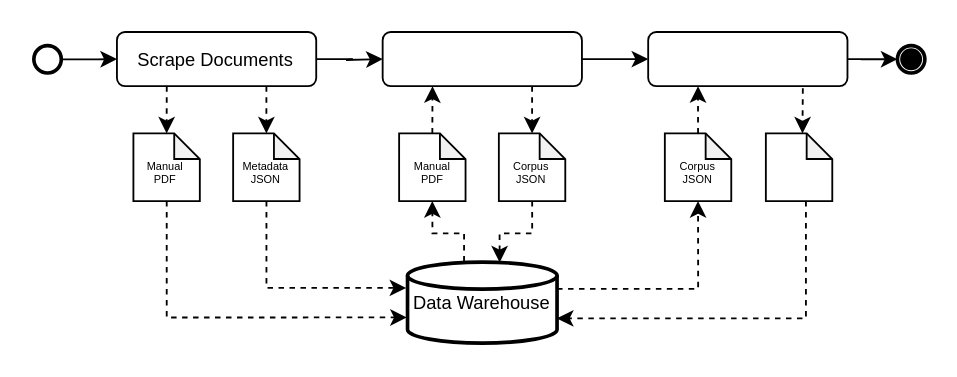
Some shapes in this 957 by 377 pixel diagram are drawn without their labels. The shapes that lost their labels are listed below. From the top down, each one's centre as x and y in pixels, then its label:
point 481,58: Build Corpus
point 746,58: Build and embed Paragraphs
point 798,166: Paragraph JSON
